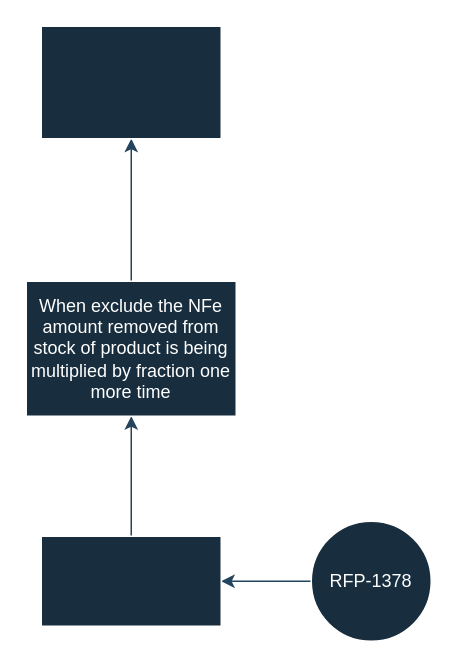
Some shapes in this 458 by 668 pixel diagram are drawn without their labels. Here are the shapes that lost their labels. From the top down, the centre of each, then its label:
the point at 130,82: Removed part where multiply amount on input NFe per fraction on manual input
the point at 130,580: When doing a input NFe fractioned amount works correctly per product
